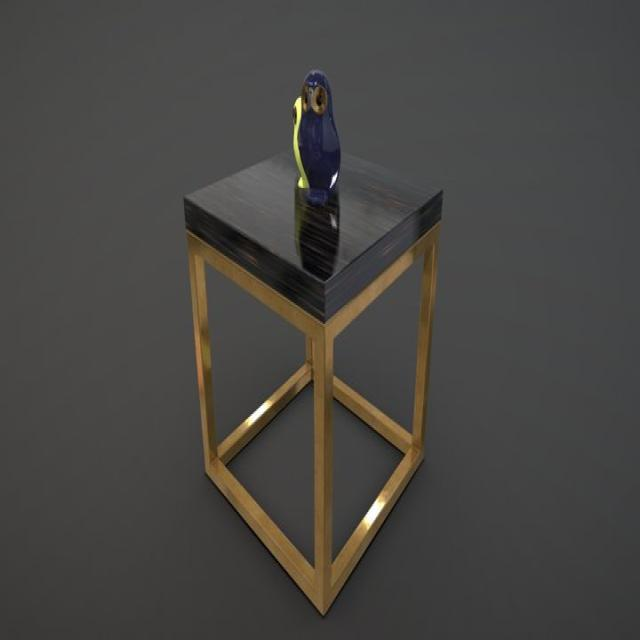table: (182, 139, 444, 615)
